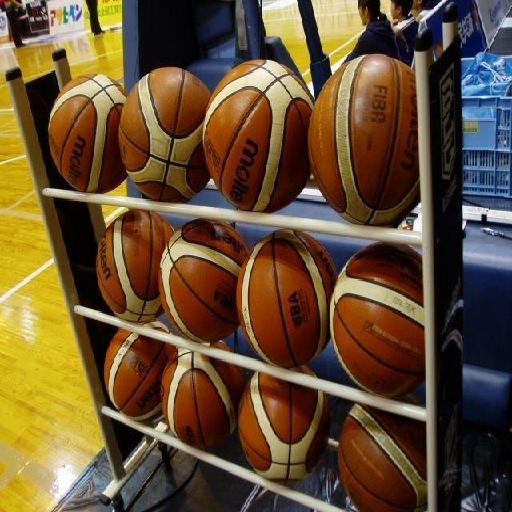ball: (236, 230, 341, 364)
